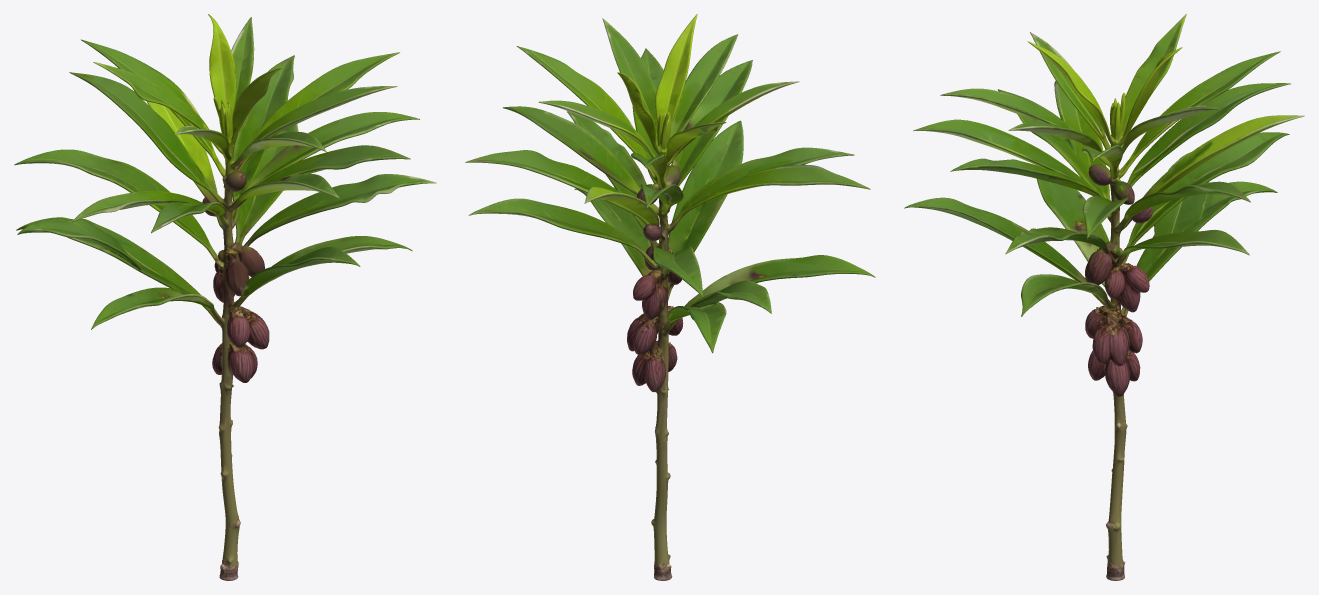
3 views of the same model, side by side, from view 1: azimuth 30°, elevation 25°; view 2: azimuth 150°, elevation 25°; view 3: azimuth 270°, elevation 25° (orthographic). The views are drawn at different scales.
Parts seen in each view (by area): view 1: node_0; view 2: node_0; view 3: node_0.
Boxes of the visible parts, x1,y1,x2,y2 form: node_0: (14, 14, 436, 580); node_0: (465, 14, 875, 580); node_0: (904, 14, 1304, 580).
Bounding box in the file's own units: 0.8034 × 1.15 × 0.7698.
Materials: 1 (1 with a texture image).
